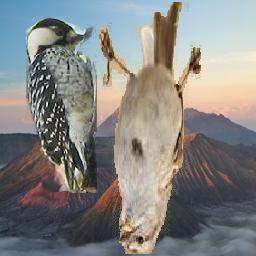Sparrow: (99, 2, 201, 254)
Woodpecker: (27, 17, 98, 194)
